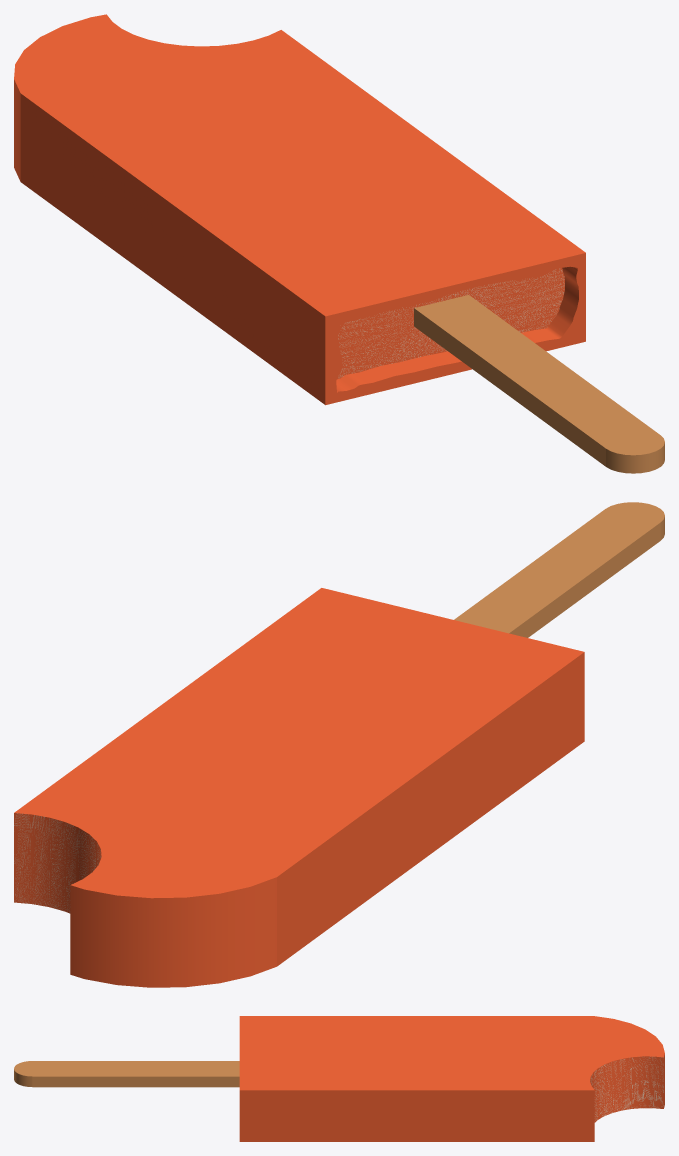
The picture shows the model from 3 angles, top to bottom: view 1: azimuth 30°, elevation 25°; view 2: azimuth 150°, elevation 25°; view 3: azimuth 270°, elevation 25°; orthographic projection. The views are drawn at different scales.
Parts seen in each view (by area): view 1: Group2, Group3; view 2: Group2, Group3; view 3: Group2, Group3.
Part boxes in pixels (x1,y1,x2,y2): Group2: (14,14,585,405); Group3: (414,295,664,473); Group2: (14,588,584,987); Group3: (454,502,664,637); Group2: (239,1016,664,1141); Group3: (14,1061,239,1087).
Bounding box in the file's own units: 150 × 48.81 × 557.
